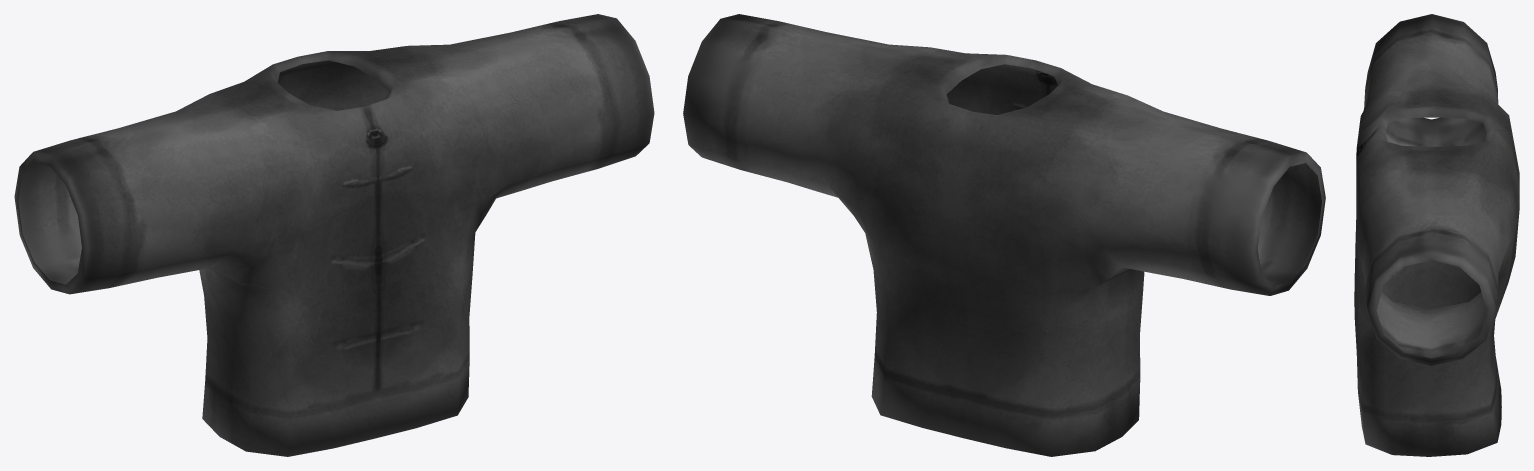
Rendered from longsleeved_stitched_jacket.gltf.
3 views of the same model, side by side, from view 1: azimuth 30°, elevation 25°; view 2: azimuth 150°, elevation 25°; view 3: azimuth 270°, elevation 25° (orthographic). The views are drawn at different scales.
Visible parts, largest first — view 1: LongSleeved_Stitched_Jacket; view 2: LongSleeved_Stitched_Jacket; view 3: LongSleeved_Stitched_Jacket.
Part boxes in pixels (left/top/right/bottom): LongSleeved_Stitched_Jacket: left=14, top=14, right=654, bottom=456; LongSleeved_Stitched_Jacket: left=683, top=14, right=1325, bottom=456; LongSleeved_Stitched_Jacket: left=1354, top=14, right=1519, bottom=456.
Size of the model in its own units: 1.15 by 0.633 by 0.3358.
